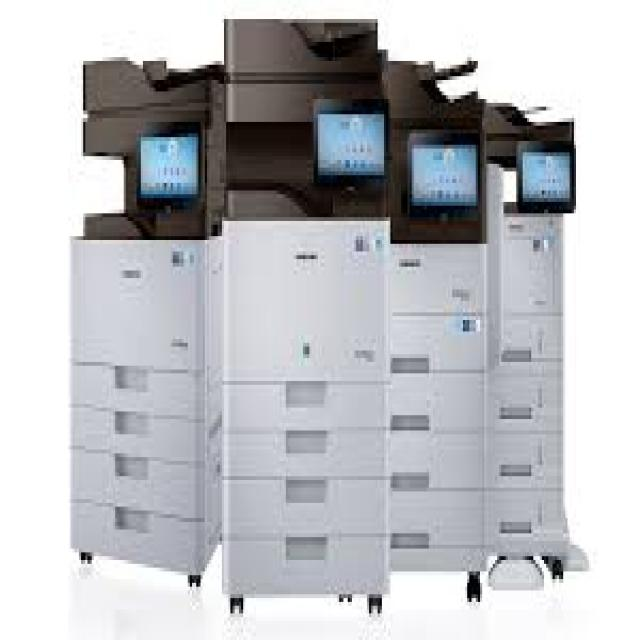printer: (219, 18, 392, 624), (72, 49, 222, 588), (385, 32, 493, 598), (486, 75, 591, 622)
